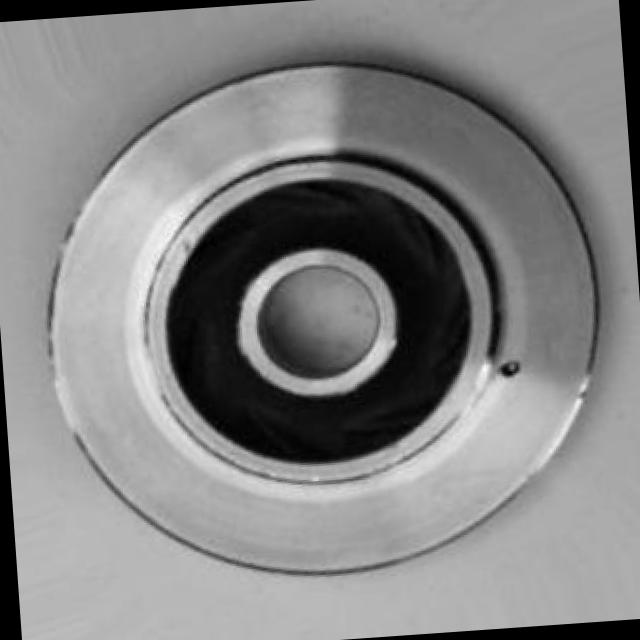Defect: (496, 353, 522, 385)
